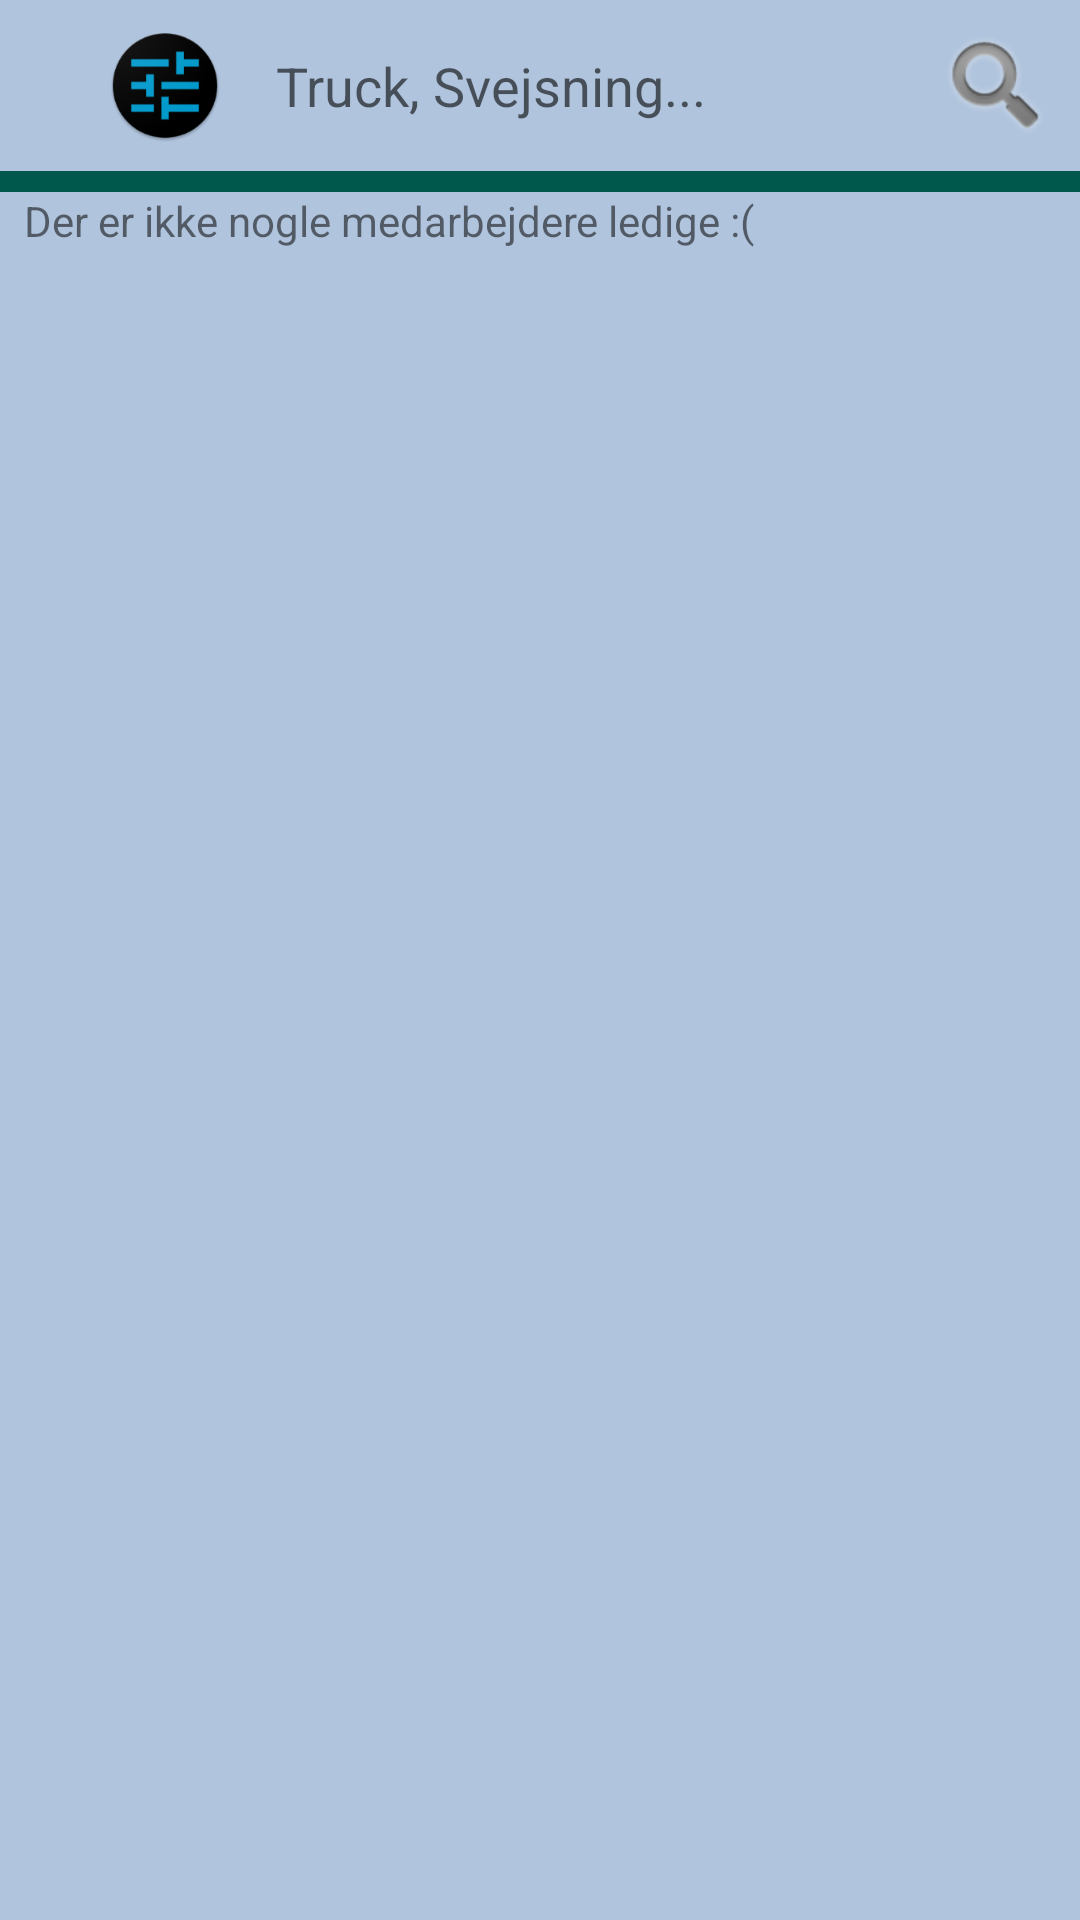

Icon click points for this 1080×1920 phone screenshot, format (x,y):
settingsicon: (165,86)
